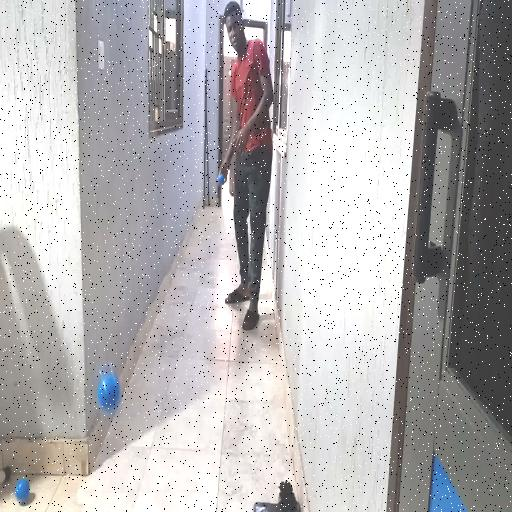plastic-ball: (98, 372, 122, 415)
